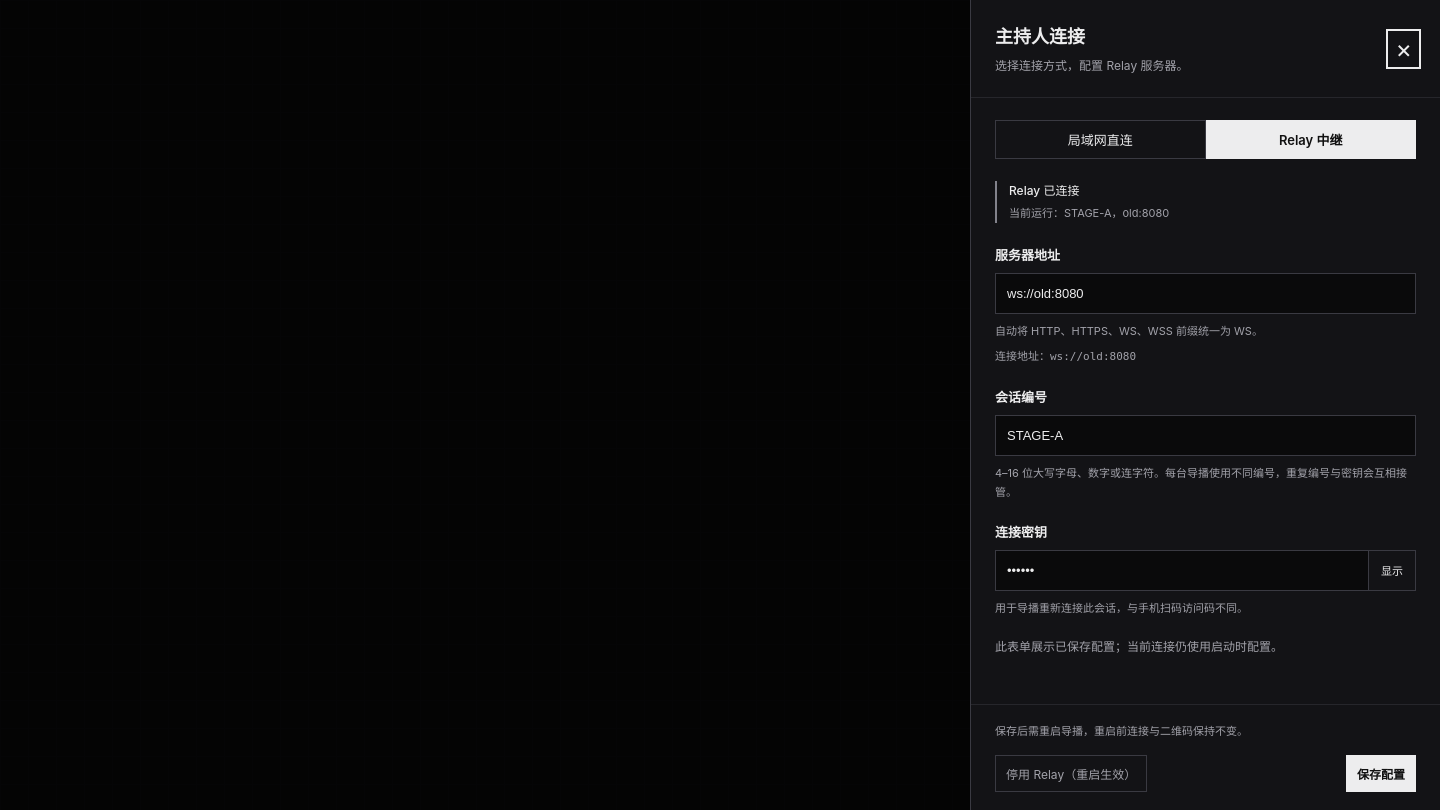
Scenario: shows save failures and retains the draft for correction
Click the button "保存配置" at (1381, 774), box [1346, 755, 1416, 792]
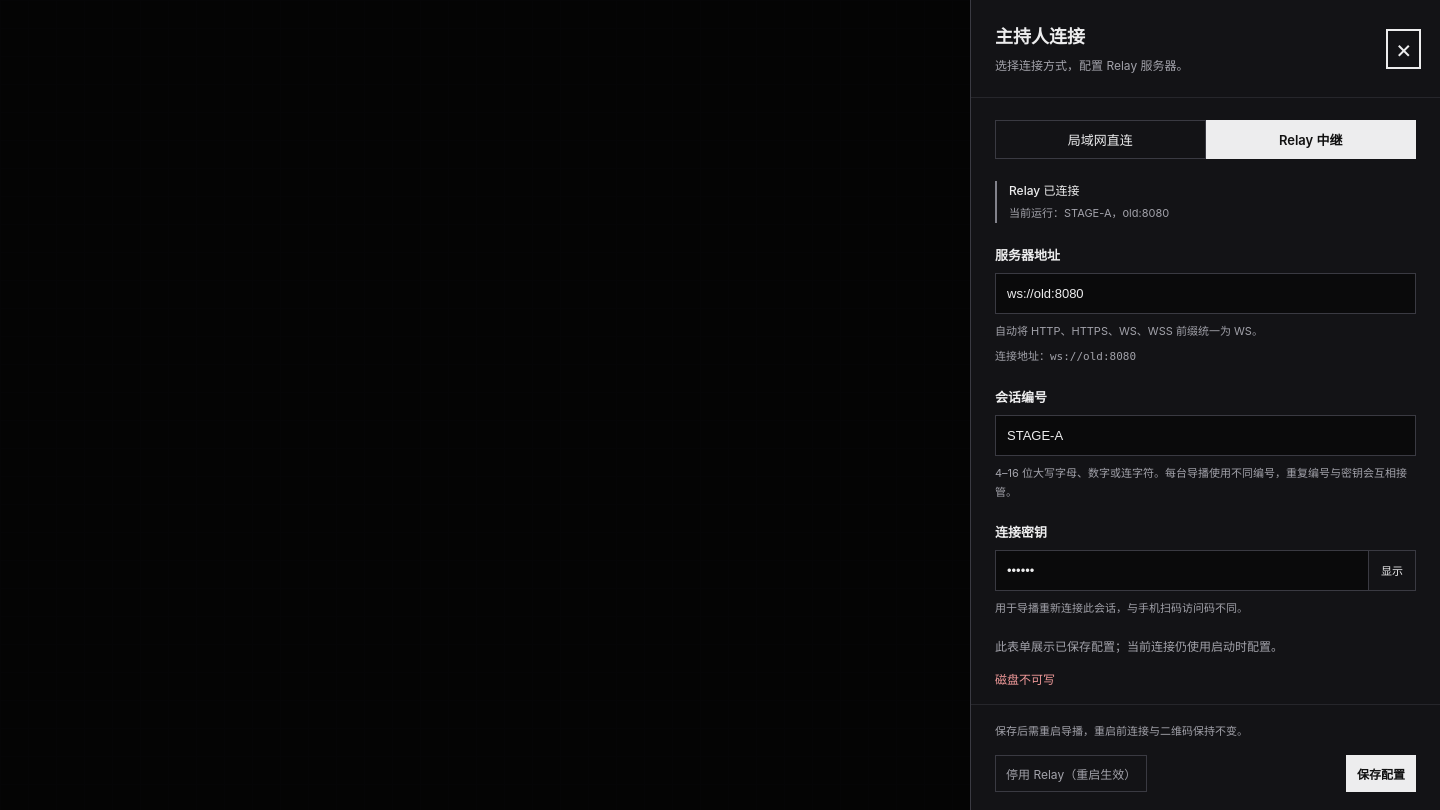
Expected: the field with id "relay-session" holds "STAGE-A", [995, 415, 1416, 456]
Result: the message "磁盘不可写" is shown at [995, 672, 1055, 687]
